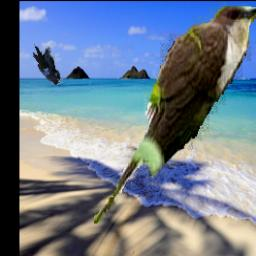Crow: (32, 43, 62, 85)
Cuckoo: (94, 3, 256, 225)
